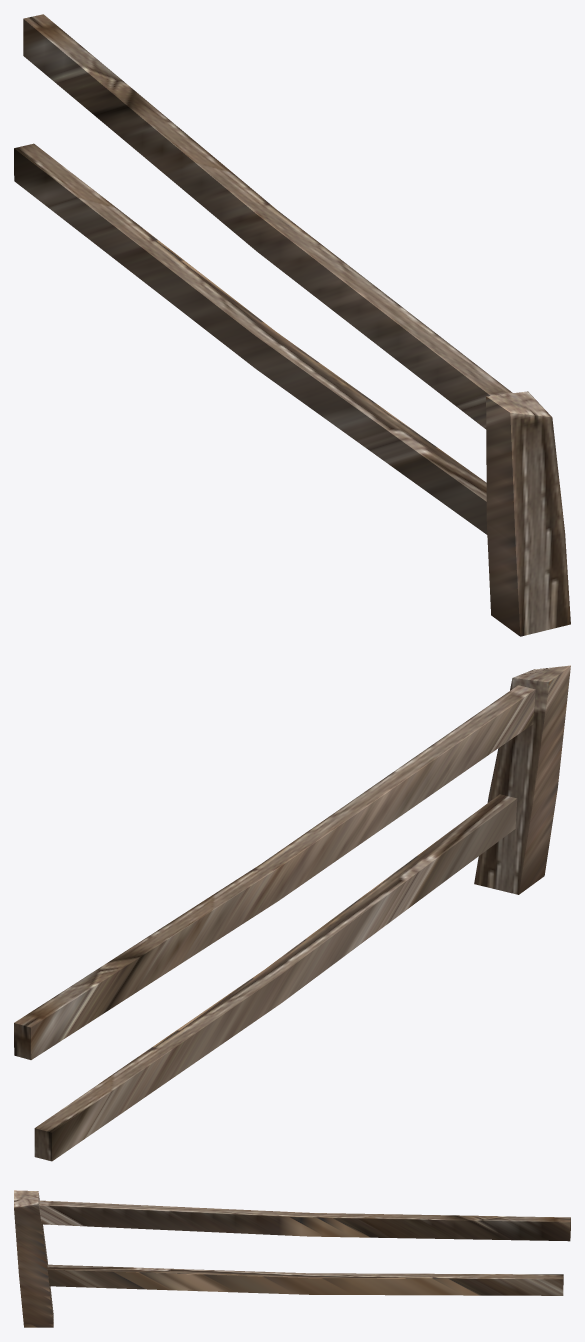
Rendered from start_fence_02.glb.
3 views of the same model, one above another, from view 1: azimuth 30°, elevation 25°; view 2: azimuth 150°, elevation 25°; view 3: azimuth 270°, elevation 25° (orthographic). The views are drawn at different scales.
Parts seen in each view (by area): view 1: start_fence_02_game; view 2: start_fence_02_game; view 3: start_fence_02_game.
Boxes of the visible parts, left/top/right/bottom form: start_fence_02_game: left=14, top=14, right=570, bottom=636; start_fence_02_game: left=14, top=665, right=570, bottom=1161; start_fence_02_game: left=14, top=1190, right=570, bottom=1327.
Bounding box in the file's own units: 0.392 × 1.08 × 4.55.
Materials: 1 (1 with a texture image).
